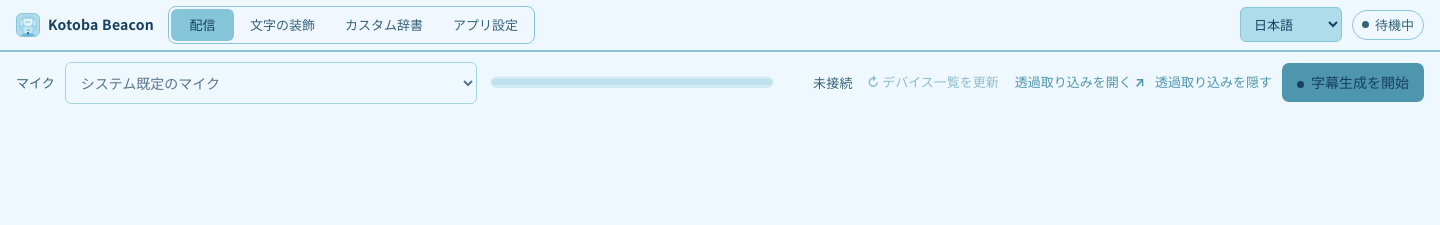
Test case: MainApp pipeline-drop notice wiring › hides in-app captions while transparent capture is open
Click the button with test id "open-transparent-capture": (1080, 83) [1015, 74, 1145, 91]
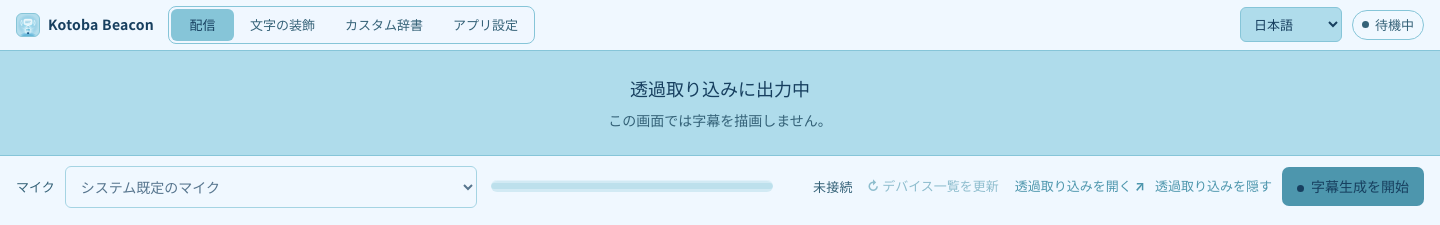
expect the message with test id "live-output-status" shows "透過取り込みに出力中": met, box [630, 74, 810, 100]
Click the button with test id "hide-transparent-capture": (1214, 187) [1155, 178, 1272, 195]
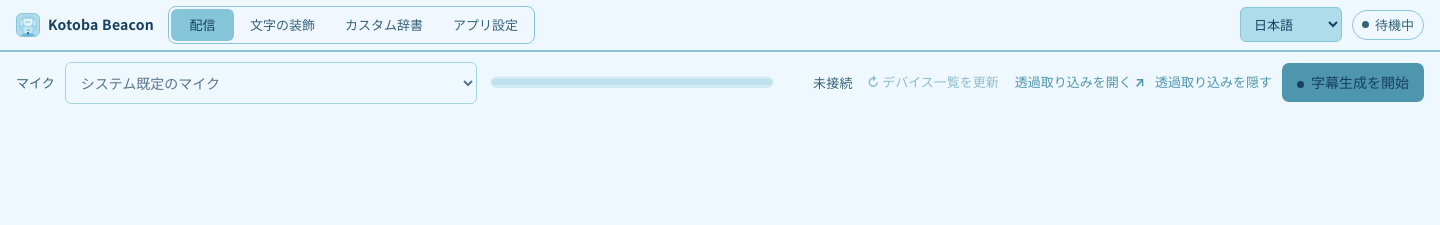
expect the message with test id "live-output-status" is gone: met
